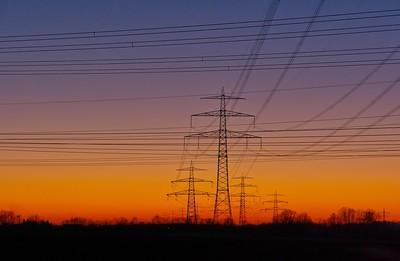power_tower: (190, 89, 250, 225), (172, 160, 210, 224), (231, 172, 257, 224), (263, 188, 287, 226)
